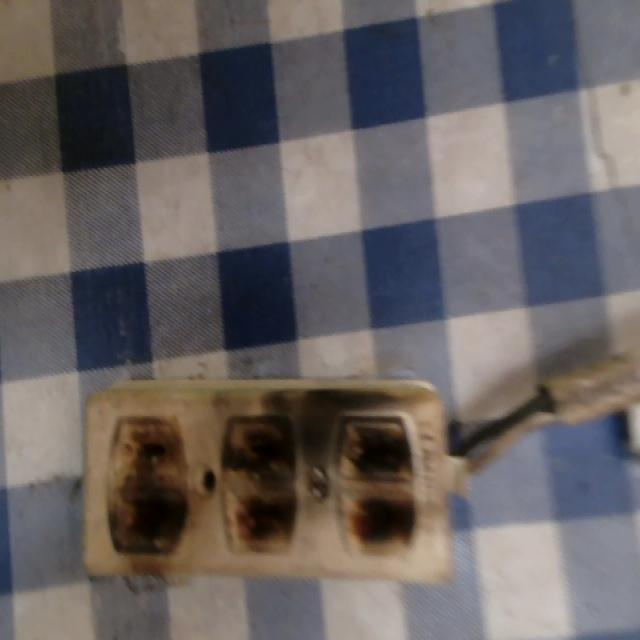-: (328, 407, 430, 557), (215, 410, 305, 558), (110, 418, 192, 554)
